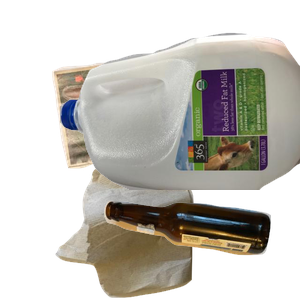glass: (101, 198, 300, 300)
paper: (49, 51, 235, 212)
plastic: (60, 30, 300, 210)
trash: (53, 121, 239, 300)
